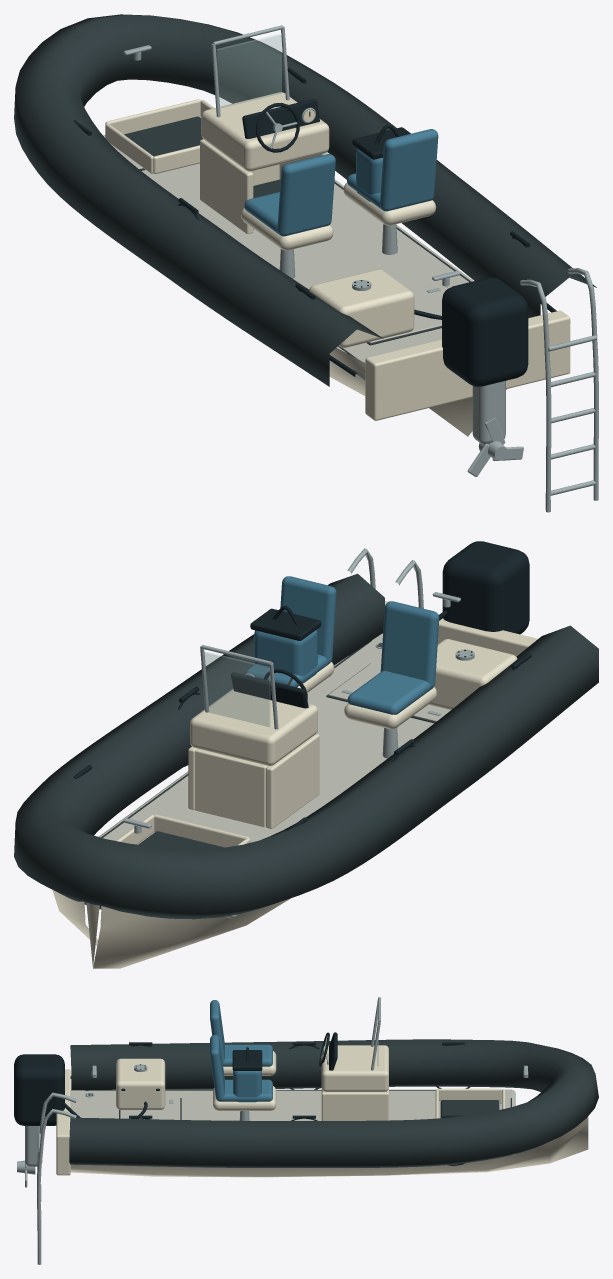
Rendered from boat.glb.
3 renders of one model, top to bottom at view 1: azimuth 30°, elevation 25°; view 2: azimuth 150°, elevation 25°; view 3: azimuth 270°, elevation 25°, orthographic. The views are drawn at different scales.
Visible parts, largest first — view 1: Merged Summer original / rubber, Merged Summer original / pale, Merged, Merged Summer original / blue, Outboard cowling, Original authored part (×4), Ladder rail (×2), Merged Summer original / metal, Merged Summer original / black; view 2: Merged Summer original / rubber, Merged Summer original / pale, Merged, Merged Summer original / blue, Original authored part (×3), Outboard cowling, Merged Summer original / black, Merged Summer original / metal; view 3: Merged Summer original / rubber, Merged Summer original / pale, Merged, Outboard cowling, Merged Summer original / blue, Original authored part (×3), Merged Summer original / black, Ladder rail, Merged Summer original / metal.
Part boxes in pixels (x1,y1,x2,y2): Merged Summer original / rubber: [14, 14, 596, 386]; Merged Summer original / pale: [105, 92, 570, 436]; Merged: [103, 135, 473, 381]; Merged Summer original / blue: [244, 129, 438, 236]; Outboard cowling: [442, 277, 528, 386]; Original authored part (×4): [216, 34, 505, 444]; Ladder rail (×2): [520, 268, 598, 512]; Merged Summer original / metal: [123, 25, 459, 292]; Merged Summer original / black: [73, 67, 556, 376]; Merged Summer original / rubber: [14, 573, 598, 919]; Merged Summer original / pale: [52, 601, 537, 968]; Merged: [98, 634, 450, 918]; Merged Summer original / blue: [245, 576, 439, 714]; Original authored part (×3): [205, 608, 321, 726]; Outboard cowling: [442, 541, 529, 634]; Merged Summer original / black: [73, 642, 531, 830]; Merged Summer original / metal: [123, 592, 460, 833]; Merged Summer original / rubber: [69, 1039, 598, 1167]; Merged Summer original / pale: [56, 1045, 588, 1177]; Merged: [70, 1089, 515, 1156]; Outboard cowling: [14, 1054, 64, 1125]; Merged Summer original / blue: [210, 1000, 272, 1101]; Original authored part (×3): [25, 1050, 262, 1166]; Merged Summer original / black: [70, 1032, 470, 1165]; Ladder rail: [37, 1108, 76, 1264]; Merged Summer original / metal: [85, 997, 528, 1120].
Bounding box in the file's own units: 2.45 × 2.52 × 6.07.
